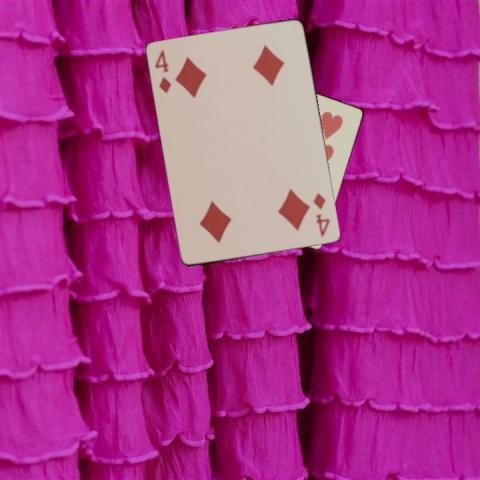4d: (310, 190, 332, 238), (152, 48, 173, 96)
